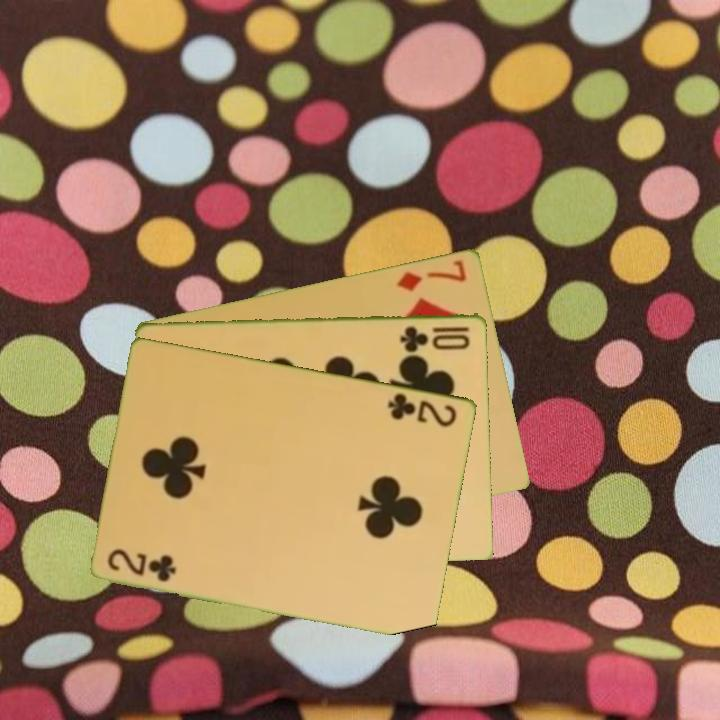10c: (396, 322, 474, 352)
2c: (384, 389, 460, 430), (104, 545, 180, 585)
7d: (393, 256, 470, 295)
